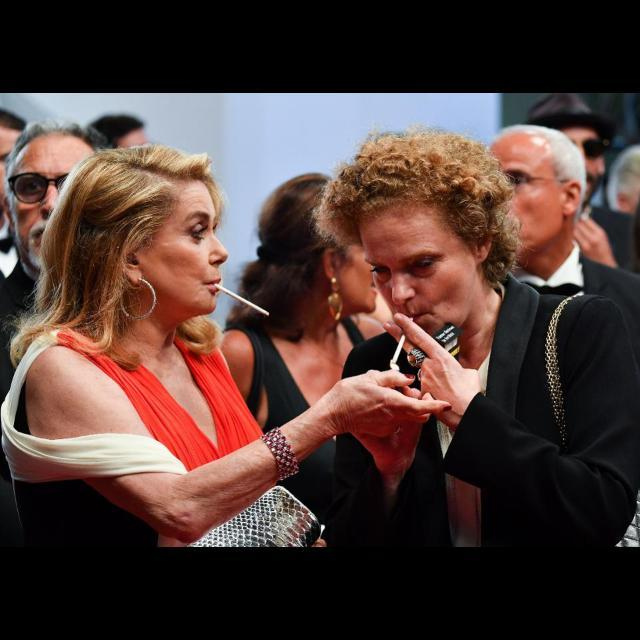rokok: (215, 276, 278, 320), (390, 329, 408, 369)
